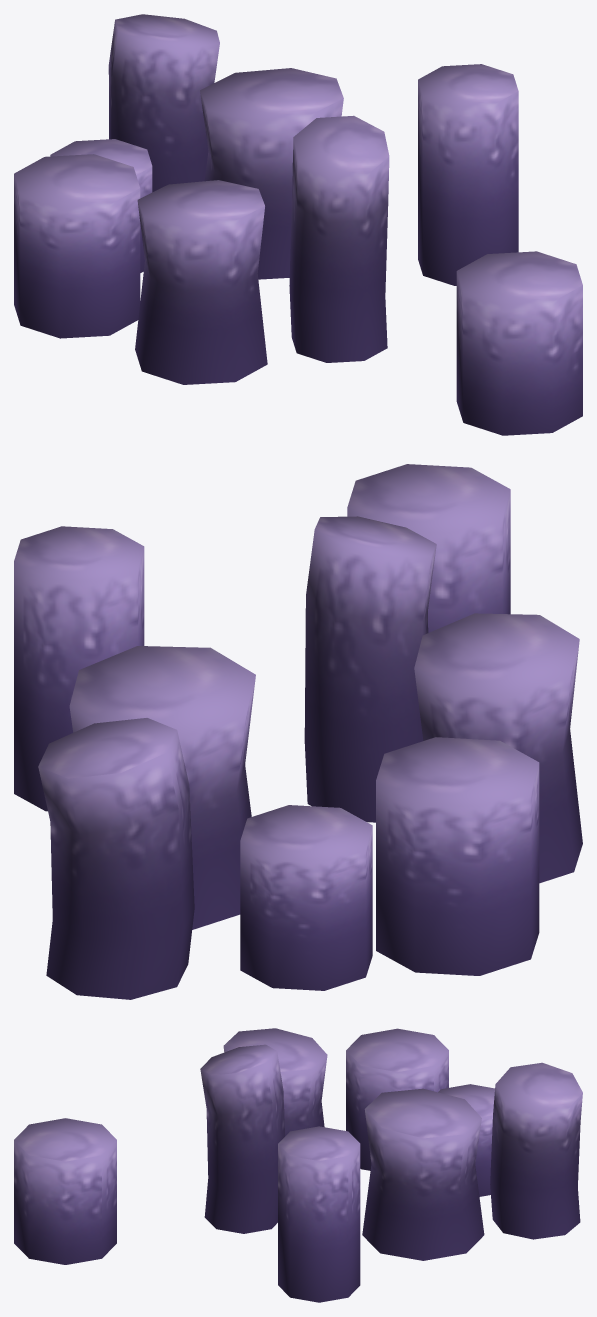
The model's file is SleepingGarden_Candle02.fbx.
3 renders of one model, top to bottom at view 1: azimuth 30°, elevation 25°; view 2: azimuth 150°, elevation 25°; view 3: azimuth 270°, elevation 25°, orthographic. The views are drawn at different scales.
Parts seen in each view (by area): view 1: SleepingGarden_Candle02; view 2: SleepingGarden_Candle02; view 3: SleepingGarden_Candle02.
Part boxes in pixels (x1,y1,x2,y2): SleepingGarden_Candle02: (14,14,582,435); SleepingGarden_Candle02: (14,464,582,999); SleepingGarden_Candle02: (14,1028,582,1302).
Bounding box in the file's own units: 0.8772 × 0.3968 × 1.24.
1 material, 1 textured.
